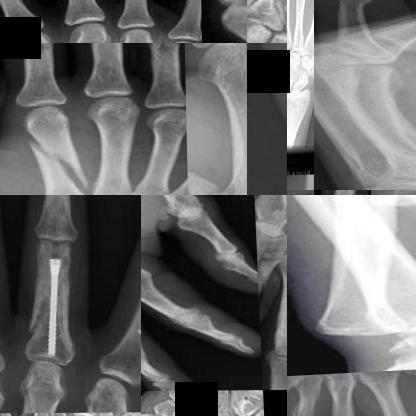fracture: (21, 250, 78, 361), (287, 195, 415, 236), (15, 130, 97, 191), (314, 43, 396, 74), (256, 239, 286, 298), (186, 158, 222, 194), (287, 401, 323, 415), (277, 278, 286, 330), (320, 407, 363, 415)
